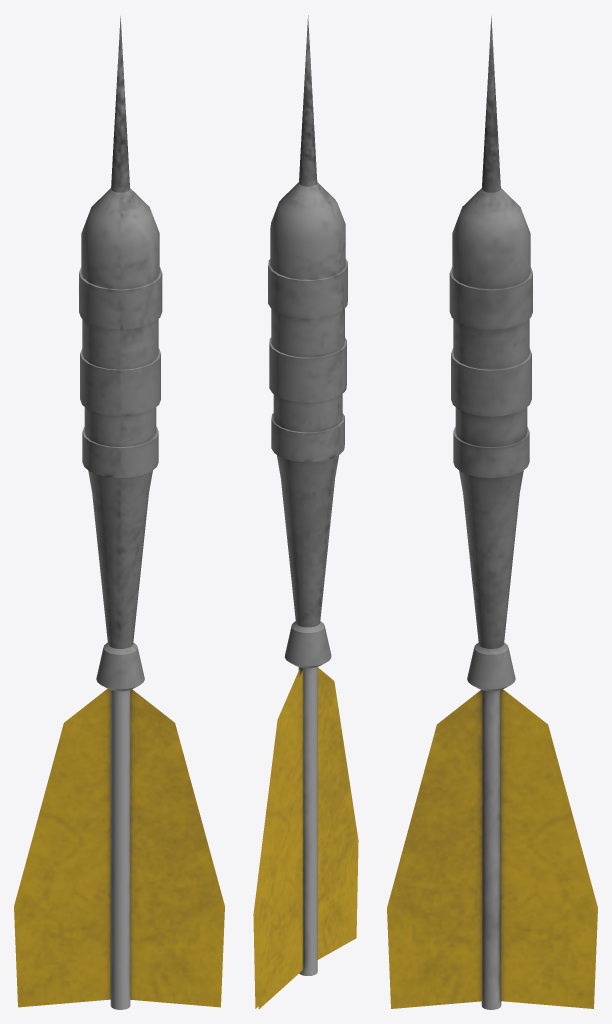
The model's file is crossbow_bolt.glb.
3 renders of one model, left to right at view 1: azimuth 90°, elevation 25°; view 2: azimuth 150°, elevation 25°; view 3: azimuth 270°, elevation 25°, orthographic. The views are drawn at different scales.
Visible parts, largest first — view 1: Arrow; view 2: Arrow; view 3: Arrow.
Part boxes in pixels (bbox=[...]): Arrow: bbox=[14, 16, 224, 1009]; Arrow: bbox=[253, 15, 358, 1009]; Arrow: bbox=[387, 16, 597, 1009].
Bounding box in the file's own units: 0.0488 × 0.6428 × 0.1237.
Materials: 1 (1 with a texture image).
